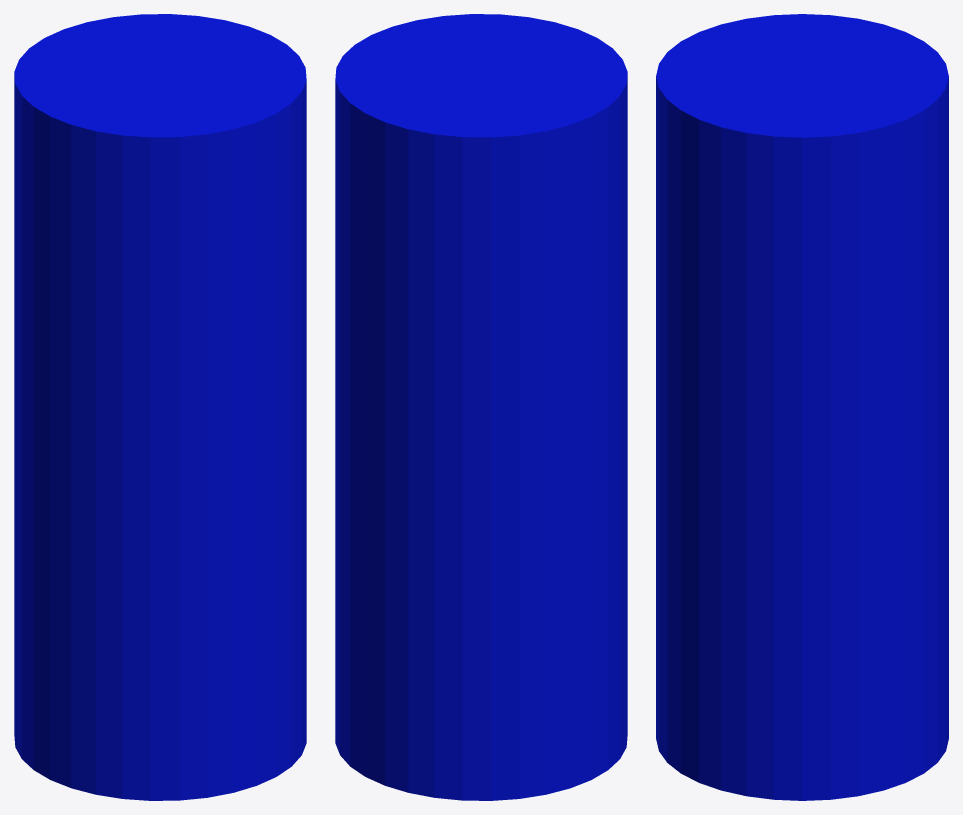
3 views of the same model, side by side, from view 1: azimuth 30°, elevation 25°; view 2: azimuth 150°, elevation 25°; view 3: azimuth 270°, elevation 25° (orthographic).
Parts seen in each view (by area): view 1: tmp_export_Cylinder.008; view 2: tmp_export_Cylinder.008; view 3: tmp_export_Cylinder.008.
Boxes of the visible parts, x1=… form: tmp_export_Cylinder.008: x1=14, y1=14, x2=306, y2=800; tmp_export_Cylinder.008: x1=335, y1=14, x2=627, y2=800; tmp_export_Cylinder.008: x1=656, y1=14, x2=948, y2=800.
Size of the model in its own units: 0.4 by 0.4 by 1.
